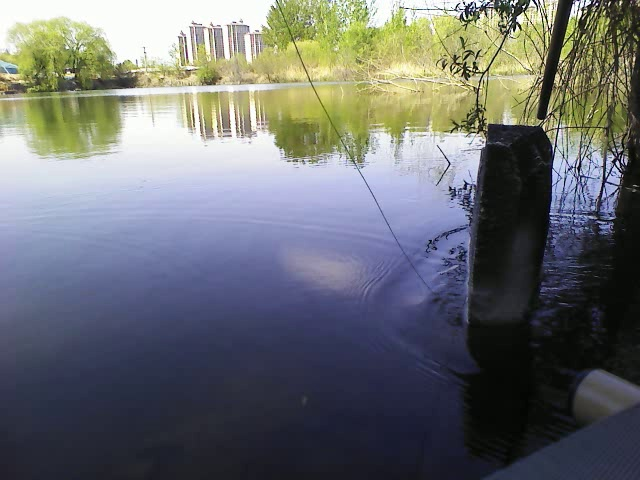rock: (460, 113, 553, 330)
